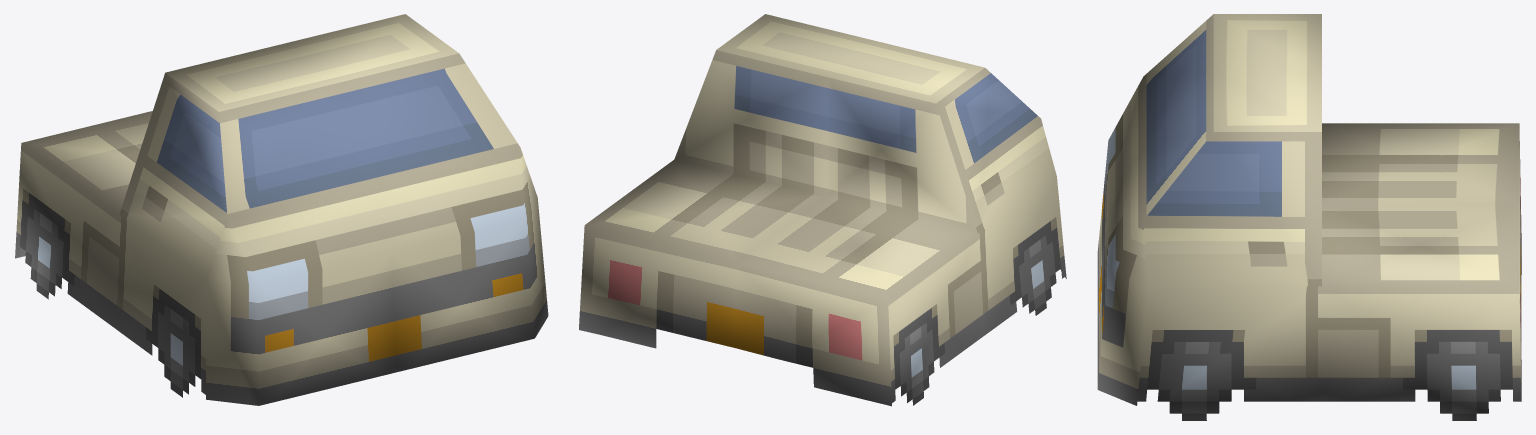
Rendered from truck_texture_png.glb.
3 renders of one model, left to right at view 1: azimuth 30°, elevation 25°; view 2: azimuth 150°, elevation 25°; view 3: azimuth 270°, elevation 25°, orthographic. The views are drawn at different scales.
Visible parts, largest first — view 1: truck_texture_png; view 2: truck_texture_png; view 3: truck_texture_png.
Boxes of the visible parts, x1,y1,x2,y2 form: truck_texture_png: (15, 14, 548, 405); truck_texture_png: (579, 14, 1066, 406); truck_texture_png: (1097, 14, 1521, 420).
Size of the model in its own units: 54.98 by 39.98 by 58.54.
Materials: 1 (1 with a texture image).
